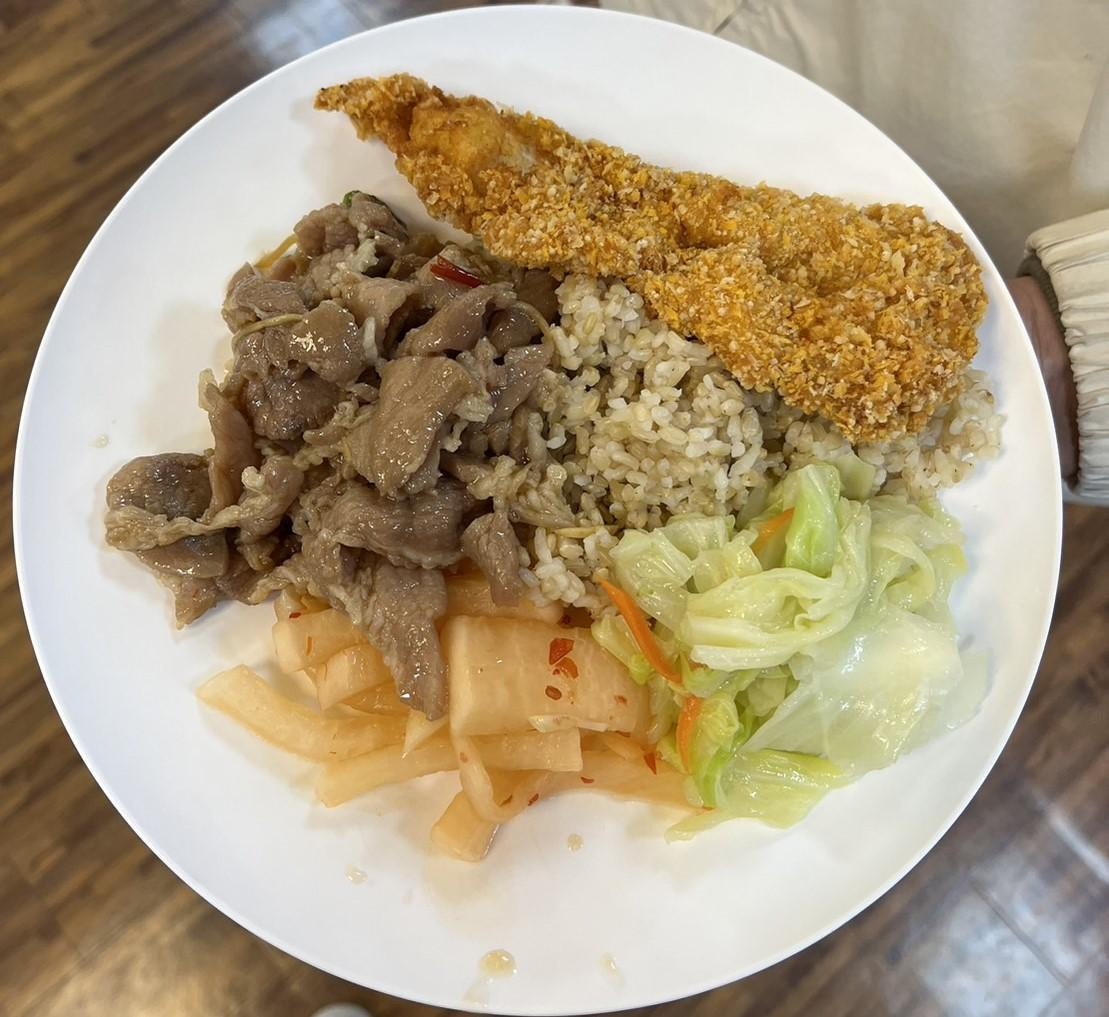big fried chicken leg: (18, 0, 1090, 1017)
box: (523, 277, 772, 524)
braised fish fillet: (580, 458, 975, 820), (193, 588, 680, 862)
braised pork: (310, 70, 990, 434), (104, 200, 563, 688)
